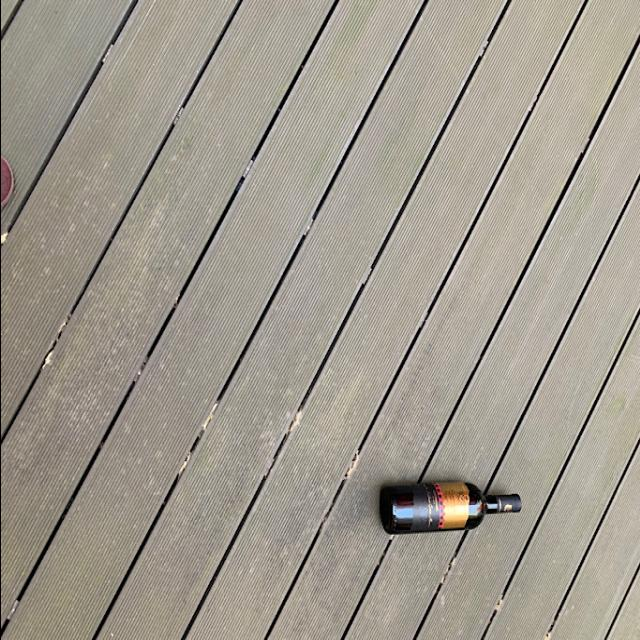litter: (374, 461, 520, 540)
